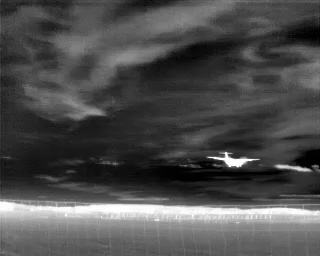AIRPLANE: (205, 147, 262, 171)
